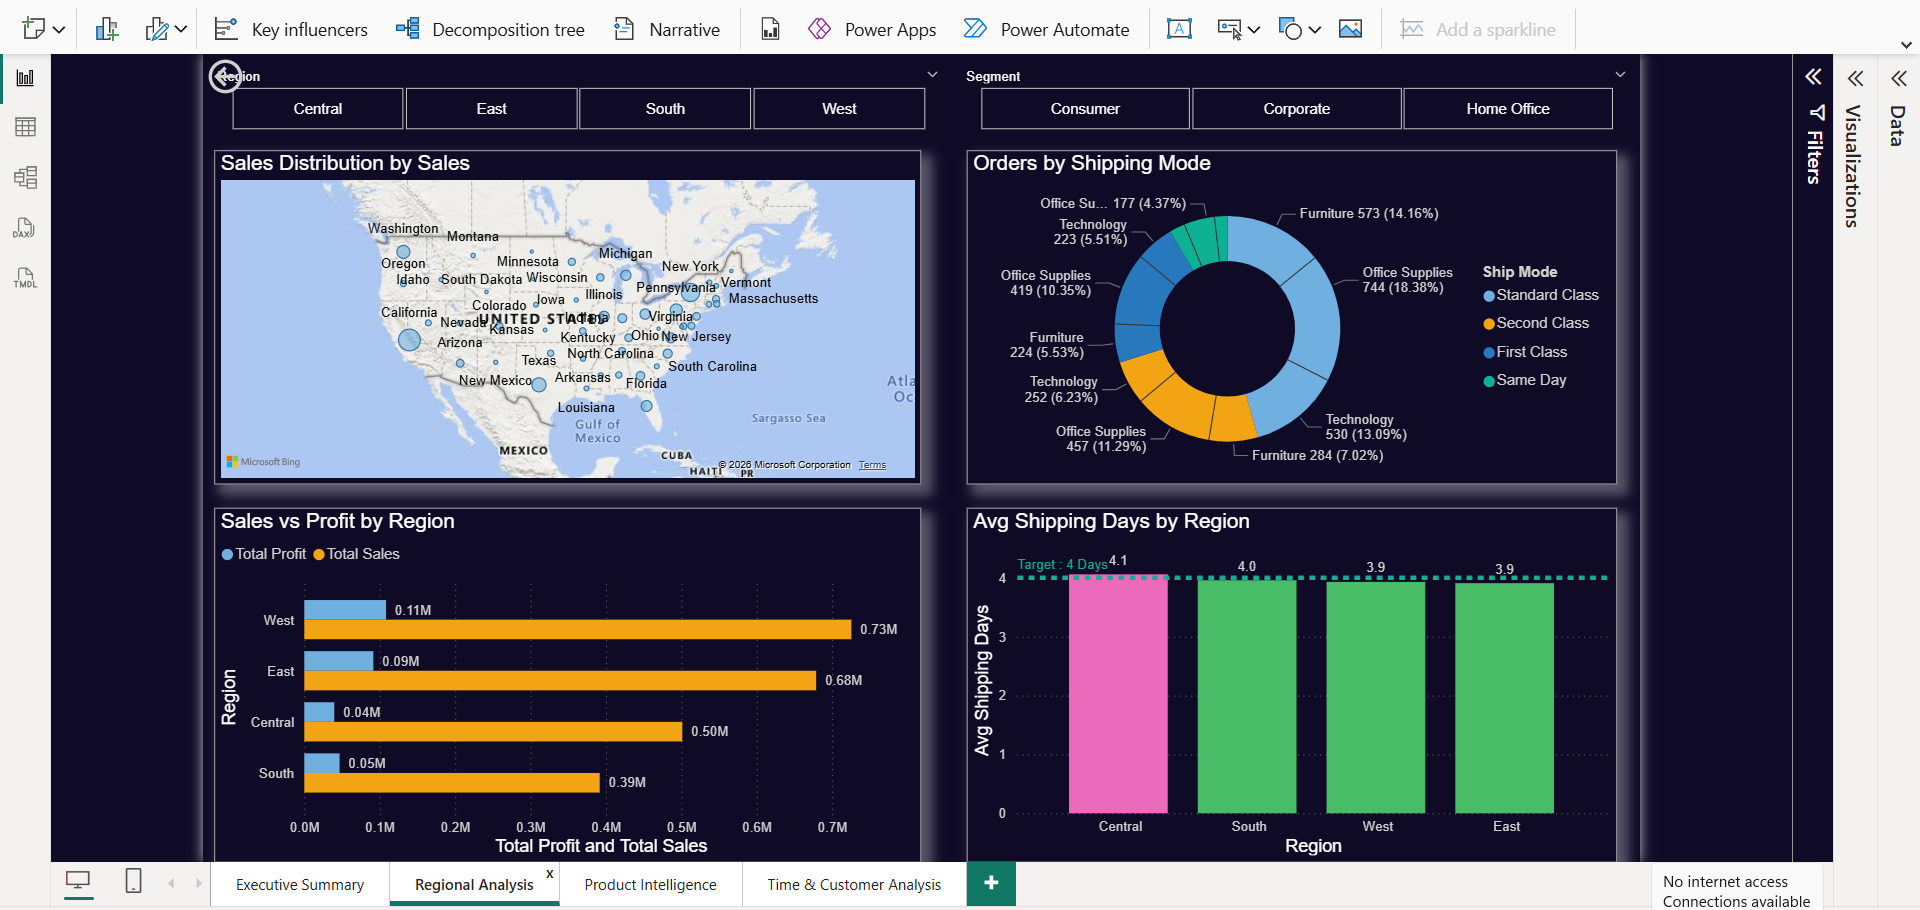

The dashboard page shown, as its layout file describes it:
{"tool":"powerbi","page":{"name":"Regional Analysis","canvas":[1280,720],"ordinal":1},"visuals":[{"type":"map","title":"Sales Distribution by Sales","fields":{"Category":["superstore_cleaned.State"],"Size":["superstore_cleaned.Total Sales"]},"box":[9.7,85.7,629.8,298],"z":0},{"type":"clusteredBarChart","title":"Sales vs Profit by Region","fields":{"Category":["superstore_cleaned.Region"],"Y":["superstore_cleaned.Total Profit","superstore_cleaned.Total Sales"]},"box":[9.7,404.2,629.8,316.1],"z":1},{"type":"donutChart","title":"Orders by Shipping Mode","fields":{"Category":["superstore_cleaned.Ship Mode"],"Y":["superstore_cleaned.Total Orders"],"Series":["superstore_cleaned.Category"]},"box":[680.4,85.7,579.1,298],"z":2},{"type":"columnChart","title":"Avg Shipping Days by Region ","fields":{"Category":["superstore_cleaned.Region"],"Y":["superstore_cleaned.Avg Shipping Days"]},"box":[680.4,404.2,579.1,316.1],"z":3},{"type":"slicer","fields":{"Values":["superstore_cleaned.Region"]},"box":[0,7.2,667.2,66.4],"z":4},{"type":"slicer","fields":{"Values":["superstore_cleaned.Segment"]},"box":[667.2,7.2,612.9,66.4],"z":5},{"type":"actionButton","box":[0,0,100,40],"z":6}]}

Visuals, with their boxes on the page's 1280x720 design canvas (x1, y1, x2, y2). These are canvas units, not pixel positions in the 1920x910 screenshot, which may show the page scaled, cropped or inside an application window:
"Sales Distribution by Sales" map: 10/86/640/384
"Sales vs Profit by Region" clusteredBarChart: 10/404/640/720
"Orders by Shipping Mode" donutChart: 680/86/1260/384
"Avg Shipping Days by Region " columnChart: 680/404/1260/720
slicer - superstore_cleaned.Region: 0/7/667/74
slicer - superstore_cleaned.Segment: 667/7/1280/74
actionButton: 0/0/100/40
